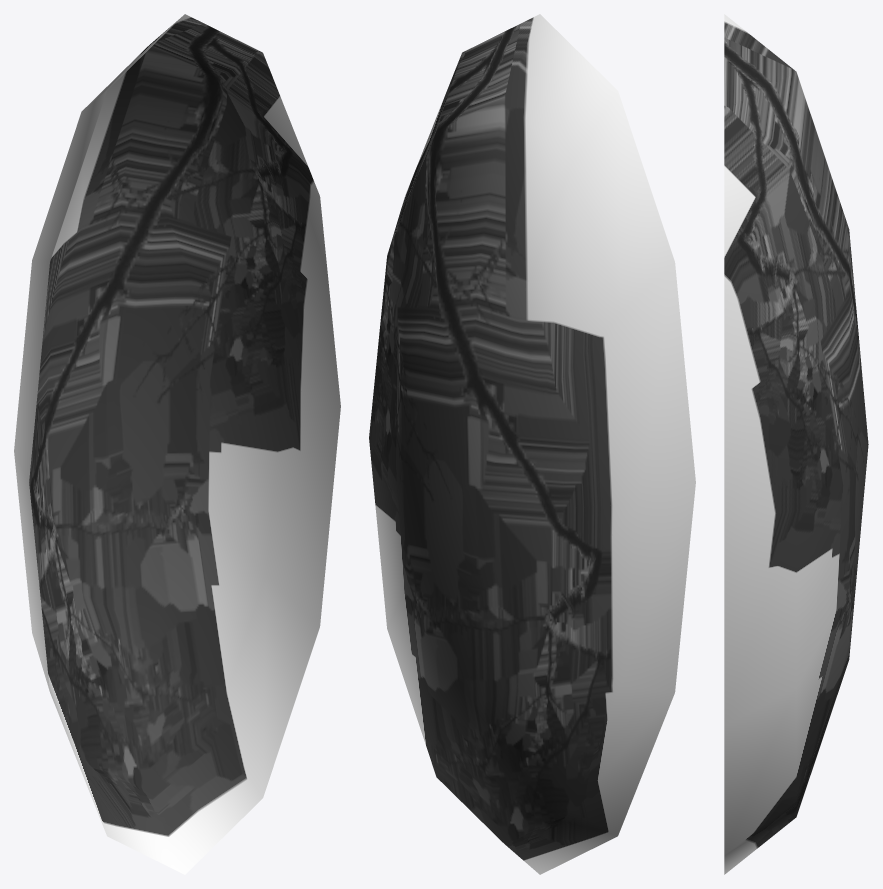
The picture shows the model from 3 angles, left to right: view 1: azimuth 30°, elevation 25°; view 2: azimuth 150°, elevation 25°; view 3: azimuth 270°, elevation 25°; orthographic projection.
Visible parts, largest first — view 1: root2; view 2: root2; view 3: root2.
Boxes of the visible parts, <box> form: root2: <box>14,14,340,874</box>; root2: <box>369,14,695,874</box>; root2: <box>724,14,868,874</box>.
Bounding box in the file's own units: 34.7 × 91.55 × 13.89.
